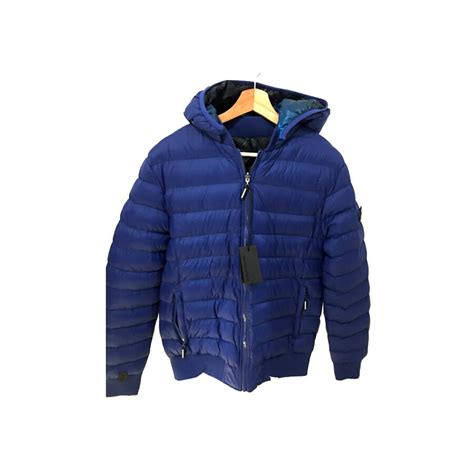nylon: (104, 80, 371, 398)
